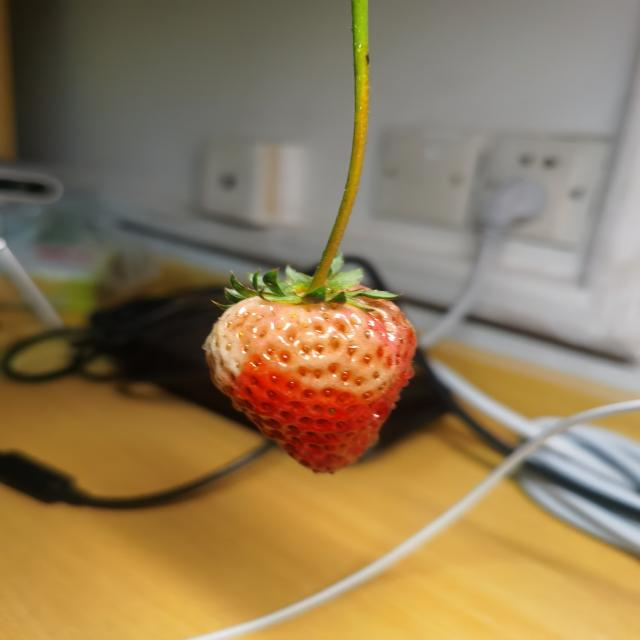stem: (303, 152, 365, 300)
strawberry: (205, 279, 416, 475)
